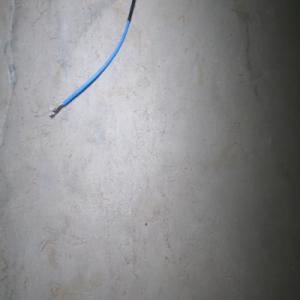Wire: (48, 0, 135, 118)
